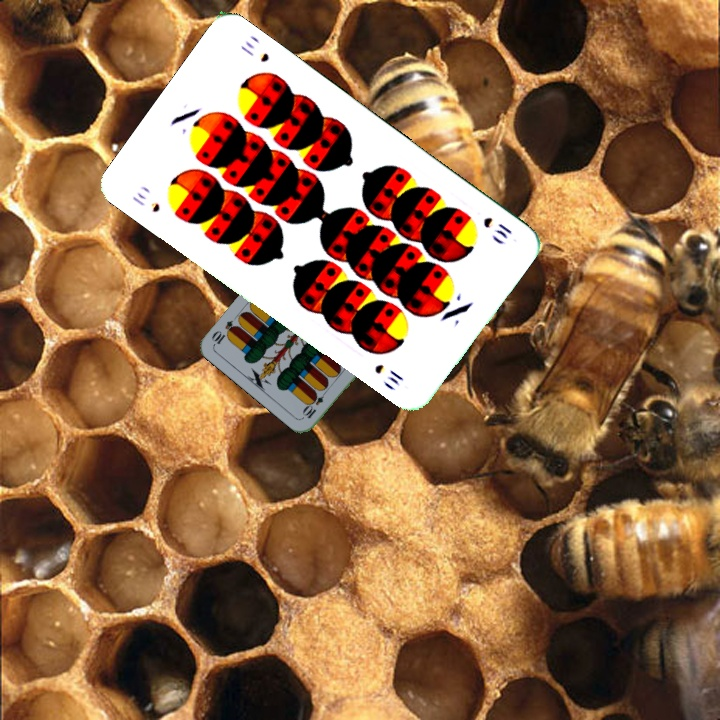E10: (299, 385, 330, 421)
S10: (479, 213, 515, 242), (128, 187, 163, 215)
